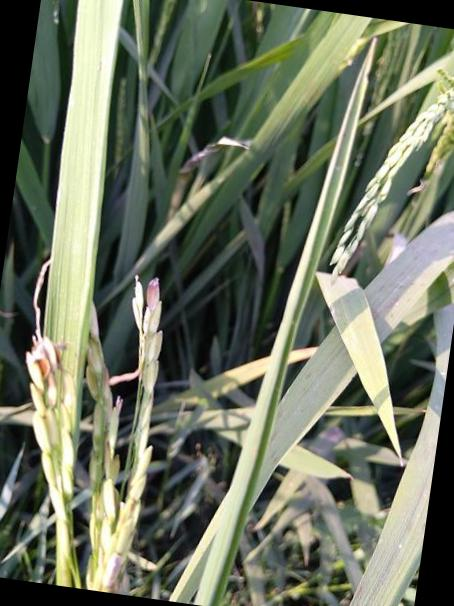Panicle Blight: (25, 336, 56, 401), (89, 333, 108, 389), (102, 554, 121, 589), (118, 499, 138, 530), (146, 279, 160, 311)
